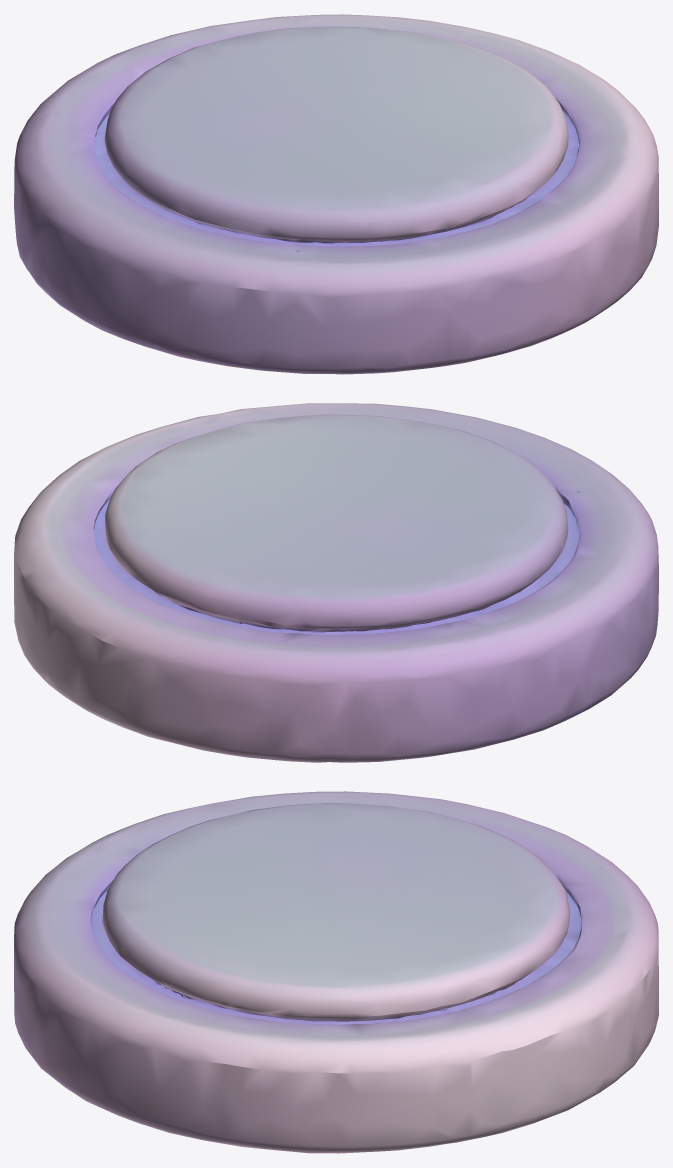
Rendered from SimonPad.glb.
3 views of the same model, one above another, from view 1: azimuth 30°, elevation 25°; view 2: azimuth 150°, elevation 25°; view 3: azimuth 270°, elevation 25° (orthographic).
Visible parts, largest first — view 1: geometry_0; view 2: geometry_0; view 3: geometry_0.
Part boxes in pixels (x1=…): geometry_0: x1=14, y1=14, x2=658, y2=374; geometry_0: x1=14, y1=403, x2=658, y2=762; geometry_0: x1=14, y1=791, x2=658, y2=1153.
Size of the model in its own units: 0.25 by 0.0545 by 0.2494.
1 material, 1 textured.
